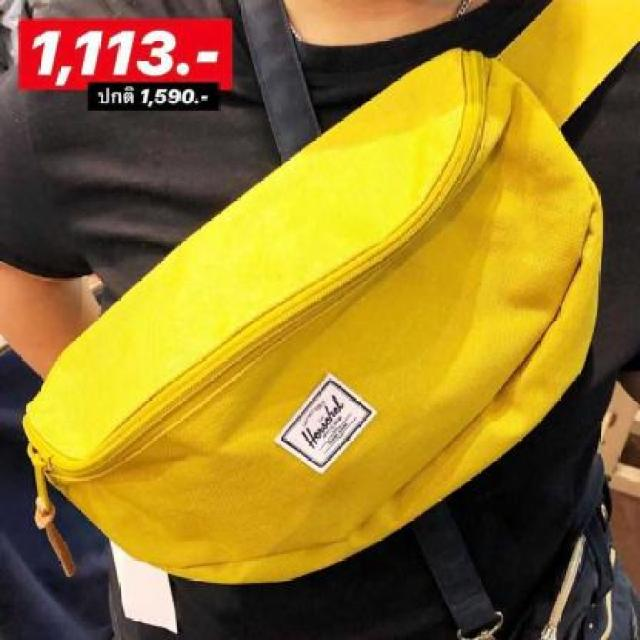Bag: (20, 0, 640, 598)
